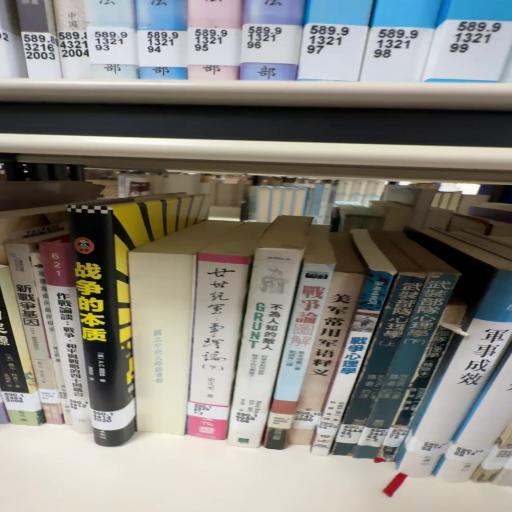backward: (129, 253, 198, 442)
book: (76, 212, 139, 448)
